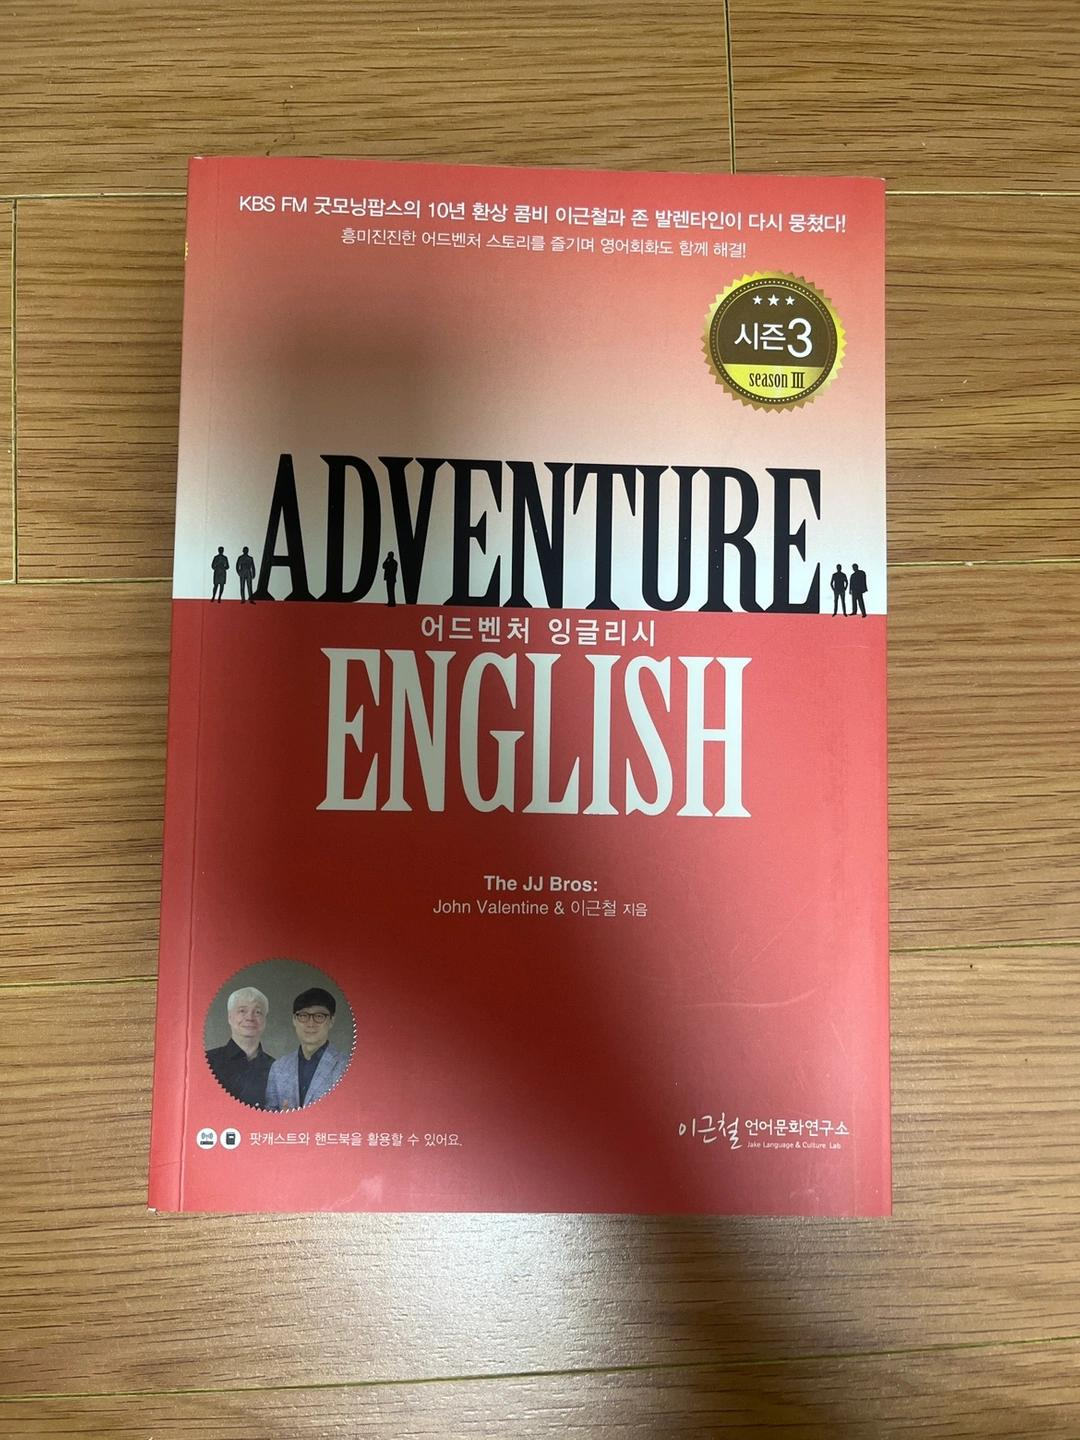book: (147, 152, 893, 1218)
